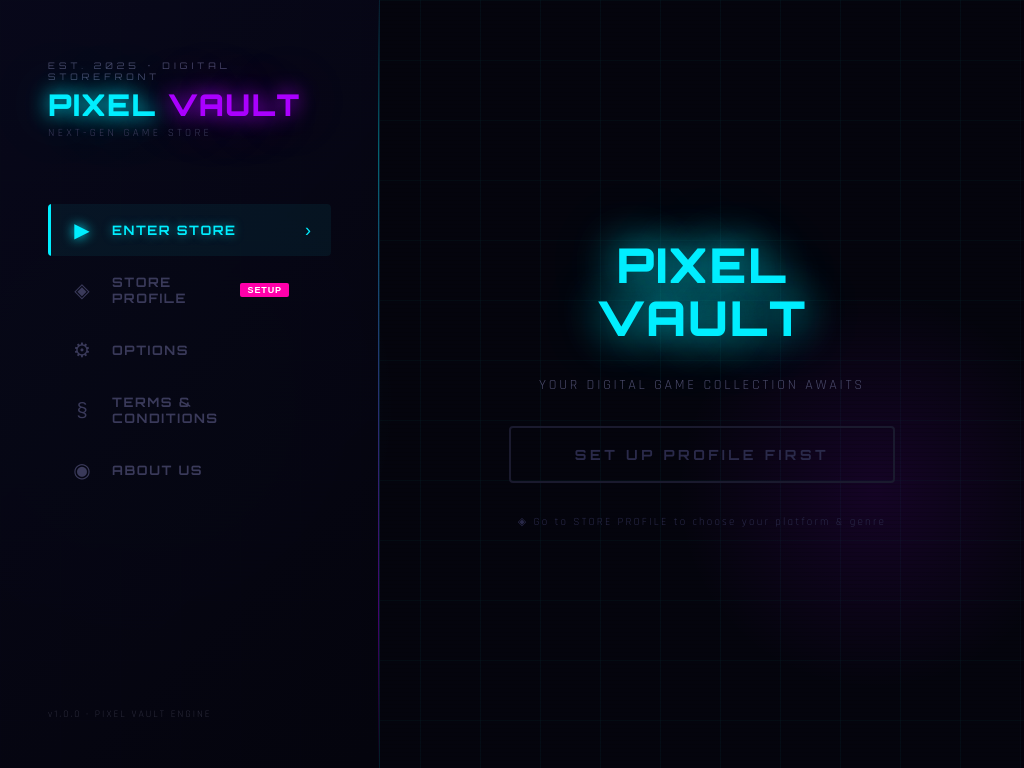
it: SelectionScreen › switching to Terms & Conditions tab shows the legal heading
Click the button "§ Terms & Conditions" at (190, 410), box [48,380,331,440]
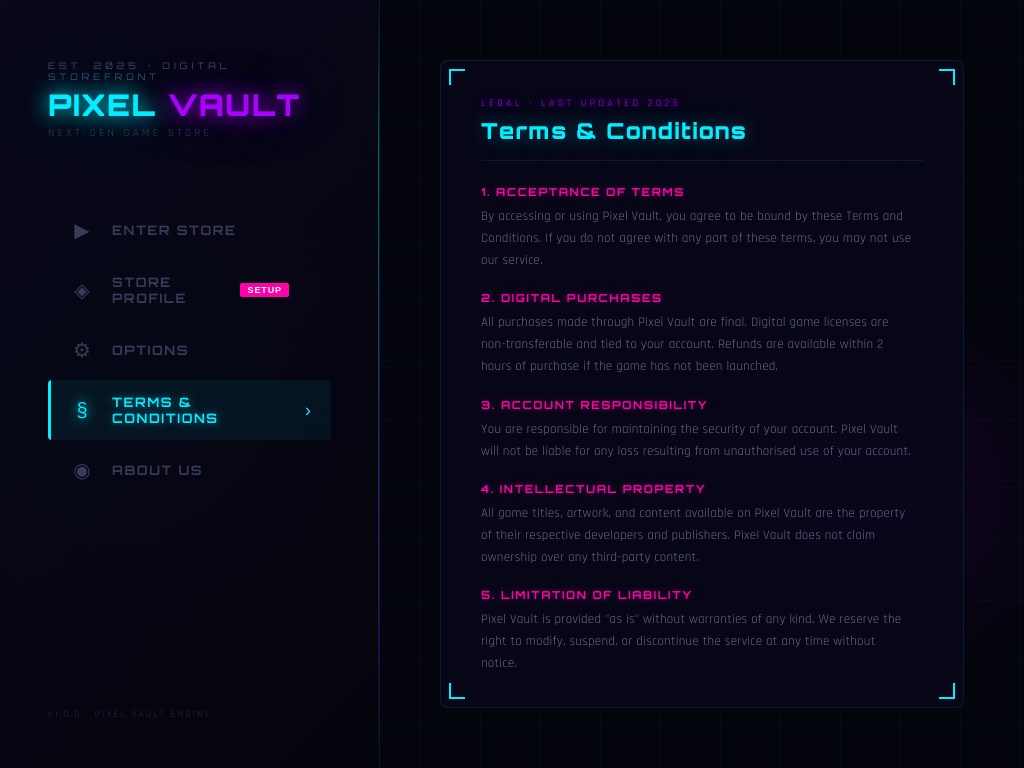
Now the heading "Terms & Conditions" is shown, box [481,117,923,161]
